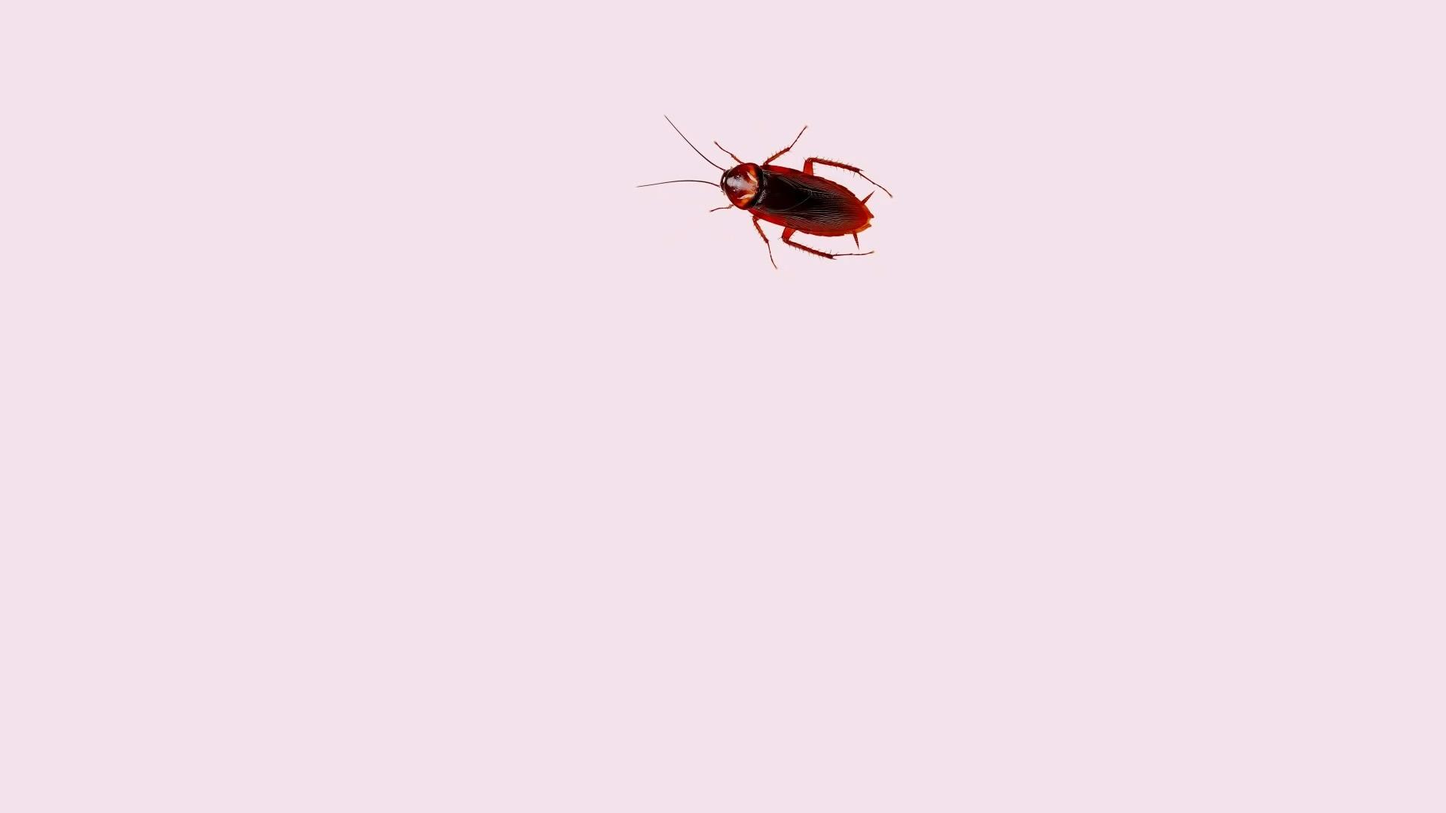cockroach: (639, 108, 891, 268)
